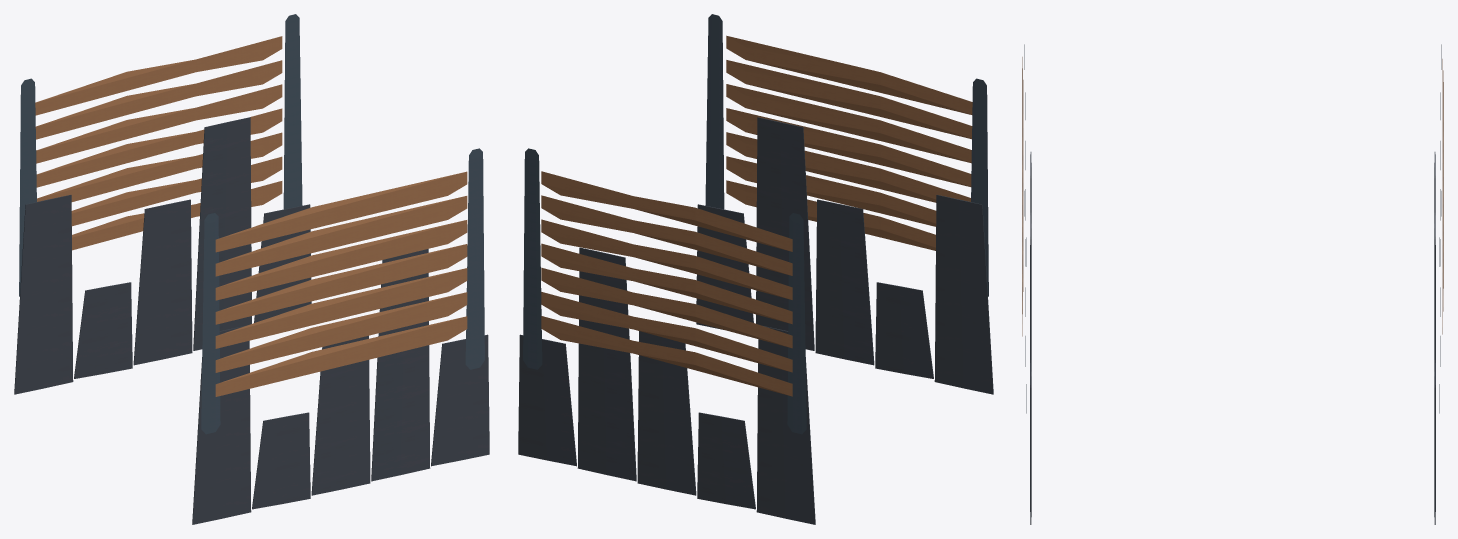
The model's file is emberline-heatshield-tower-1.glb.
3 views of the same model, side by side, from view 1: azimuth 30°, elevation 25°; view 2: azimuth 150°, elevation 25°; view 3: azimuth 270°, elevation 25° (orthographic). The views are drawn at different scales.
Visible parts, largest first — view 1: emberline-heatshield-tower_LOD1; view 2: emberline-heatshield-tower_LOD1; view 3: emberline-heatshield-tower_LOD1.
Part boxes in pixels (x1,y1,x2,y2): emberline-heatshield-tower_LOD1: (14,14,489,524); emberline-heatshield-tower_LOD1: (518,14,993,524); emberline-heatshield-tower_LOD1: (1022,44,1443,524).
Size of the model in its own units: 0.9218 by 0.9238 by 0.997.
Materials: 3 (3 with a texture image).
